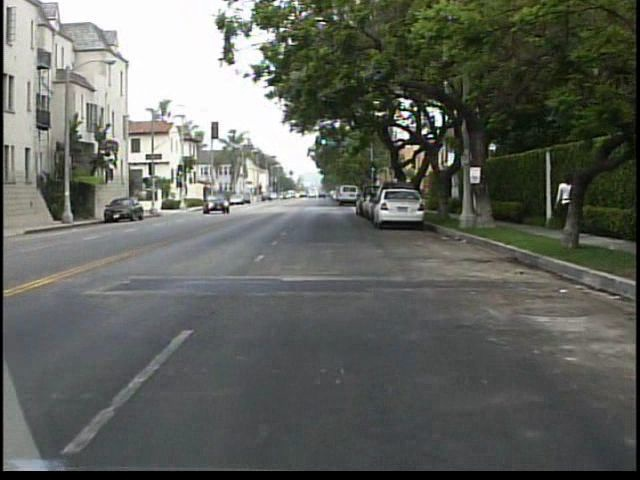person: (547, 166, 584, 250)
